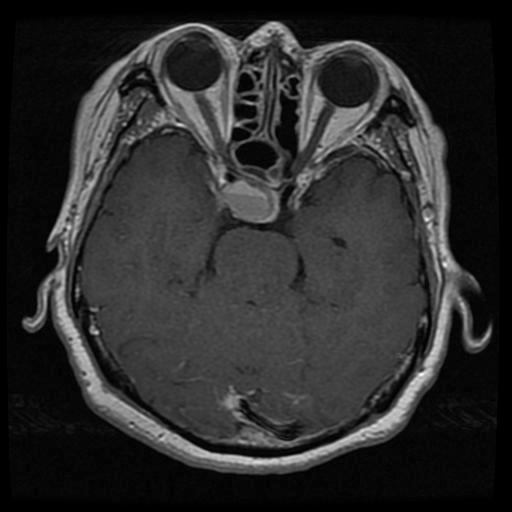Tumour-Pituitary: (215, 180, 301, 228)
